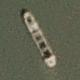ship: (0, 0, 6, 32)
